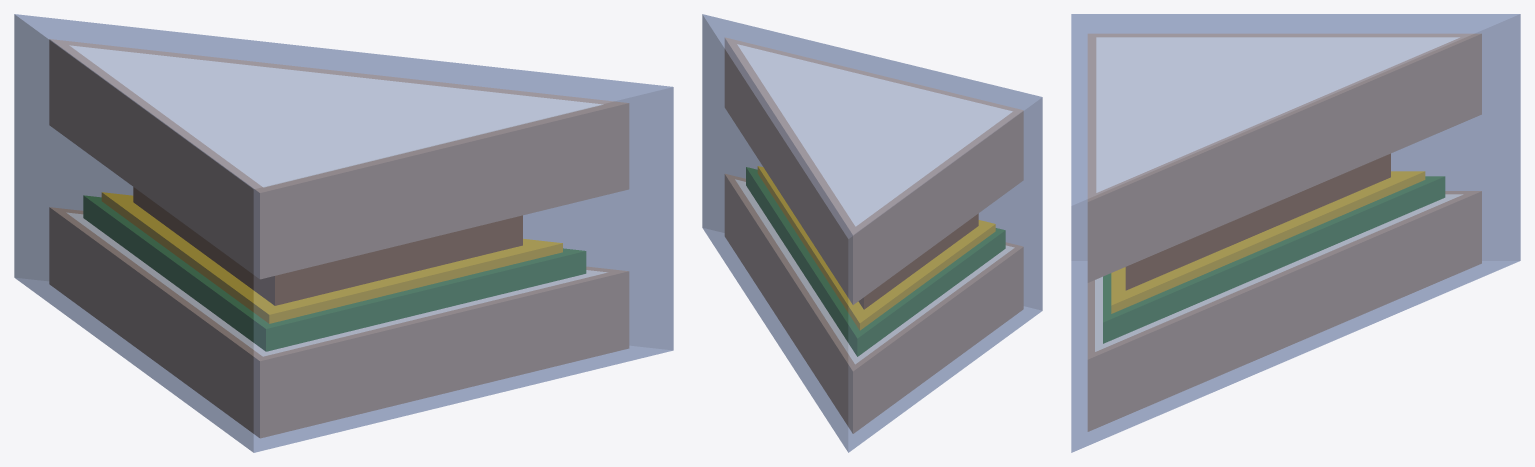
File: Sandwich.fbx
The picture shows the model from 3 angles, left to right: view 1: azimuth 30°, elevation 25°; view 2: azimuth 150°, elevation 25°; view 3: azimuth 270°, elevation 25°; orthographic projection. The views are drawn at different scales.
Visible parts, largest first — view 1: Group1; view 2: Group1; view 3: Group1.
Boxes of the visible parts, x1=… form: Group1: x1=14, y1=14, x2=673, y2=452; Group1: x1=702, y1=14, x2=1042, y2=452; Group1: x1=1071, y1=14, x2=1520, y2=452.
Bounding box in the file's own units: 4.47 × 2.68 × 4.42.
